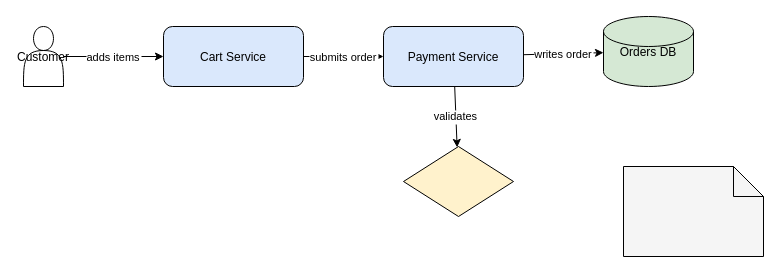
Some shapes in this 780 by 273 pixel diagram are drawn without their labels. The centre of each missing label's shape, as x and y in pixels:
"Fraud Check" goes at (458,181).
"Legend Blue: service Green: data store Yellow: decision" goes at (693,211).
